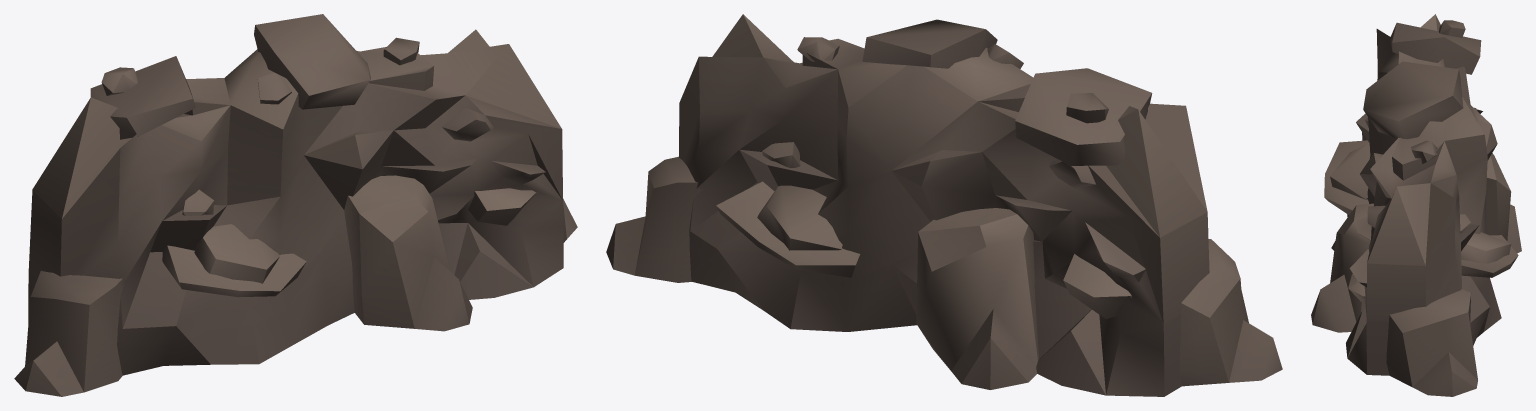
File: rubble_large.glb
3 renders of one model, left to right at view 1: azimuth 30°, elevation 25°; view 2: azimuth 150°, elevation 25°; view 3: azimuth 270°, elevation 25°, orthographic. The views are drawn at different scales.
Bounding box in the file's own units: 8.13 × 3.5 × 3.18.
Materials: 1 (1 with a texture image).
